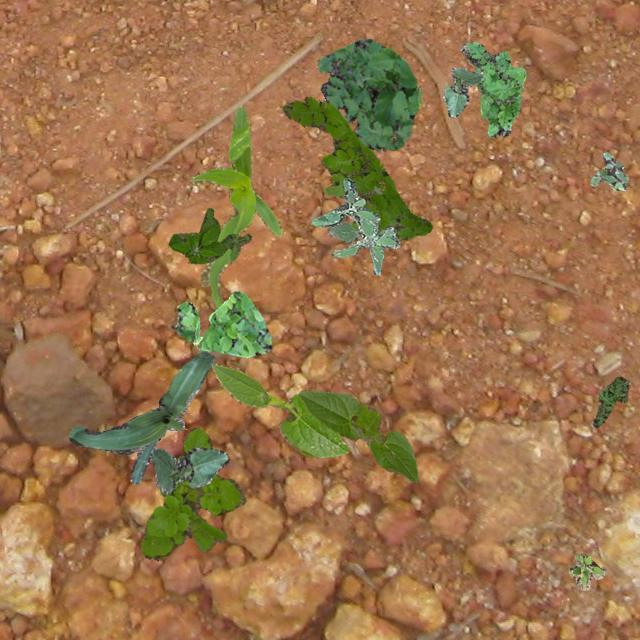crop: (69, 351, 213, 484), (188, 106, 282, 308), (210, 362, 348, 457), (298, 388, 416, 482), (150, 446, 228, 492), (442, 66, 483, 116)
weed: (282, 95, 432, 238), (140, 426, 244, 560), (316, 38, 421, 150), (311, 176, 398, 260), (170, 290, 270, 356), (460, 41, 526, 136), (168, 206, 250, 262), (327, 220, 388, 274), (592, 376, 628, 426), (588, 152, 628, 190), (568, 552, 604, 590)
